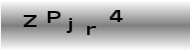4: (108, 8, 124, 23)
P: (47, 10, 61, 24)
Z: (22, 13, 38, 28)
j: (66, 17, 73, 33)
r: (86, 25, 96, 36)
